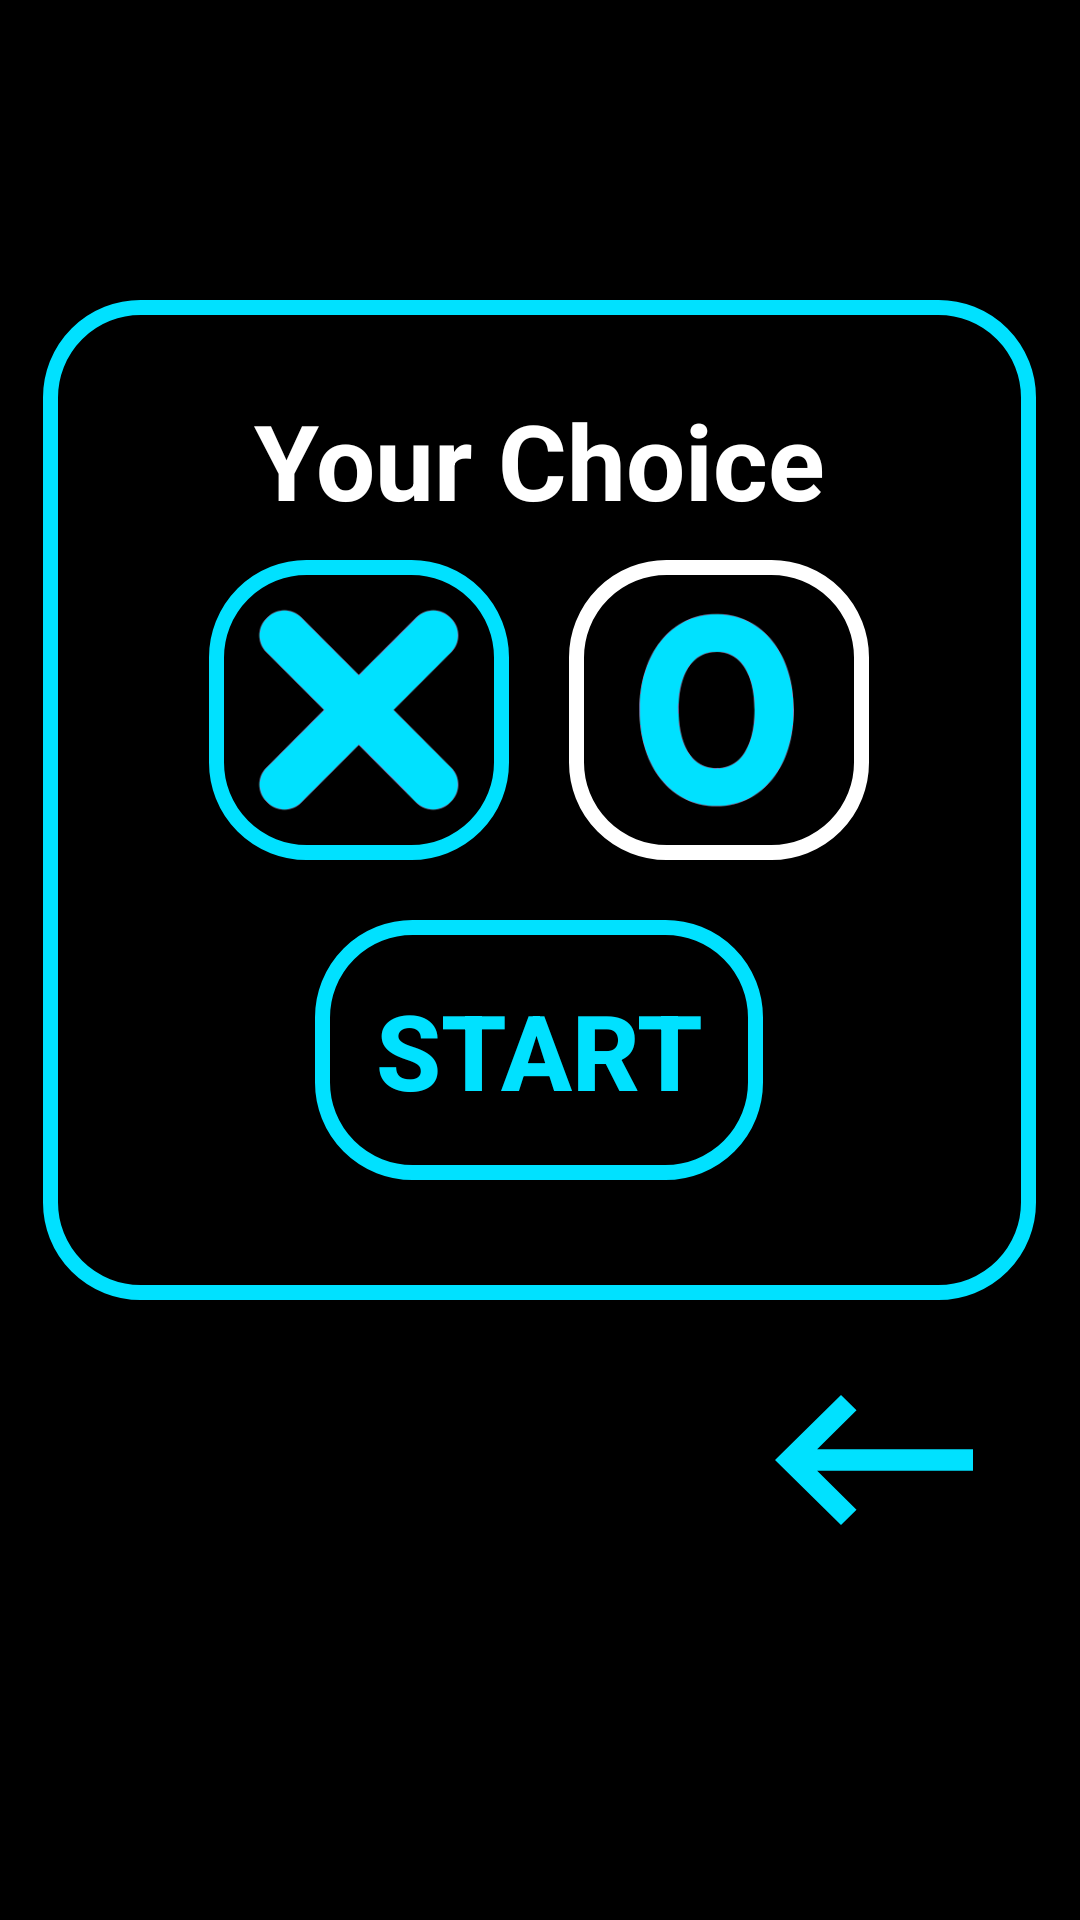

Screen size 1080 x 1920. Icon name, then its center in pixels as (x,y):
keyboard backspace: (874,1460)
oimage: (719,710)
ximage: (359,710)
